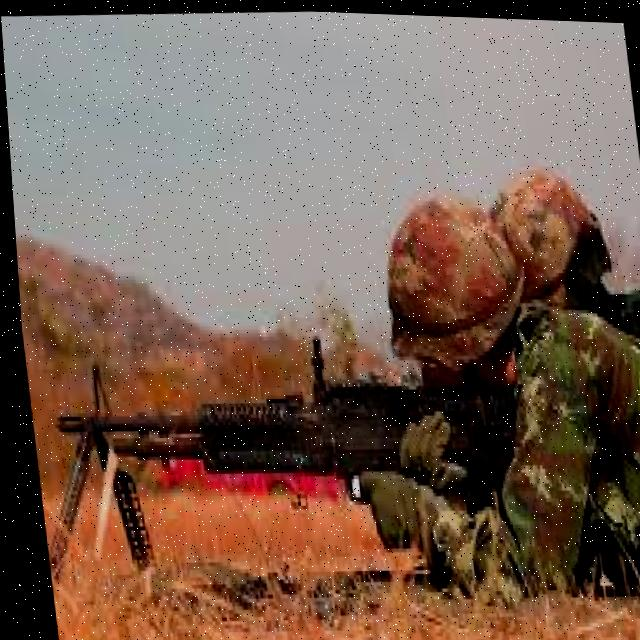firearm: (17, 308, 536, 615)
